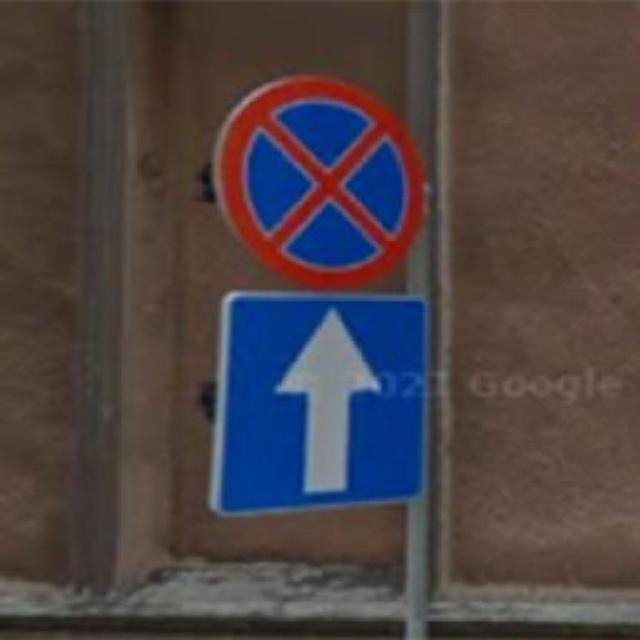Zakaz zatrzymywania sie: (209, 72, 426, 292)
